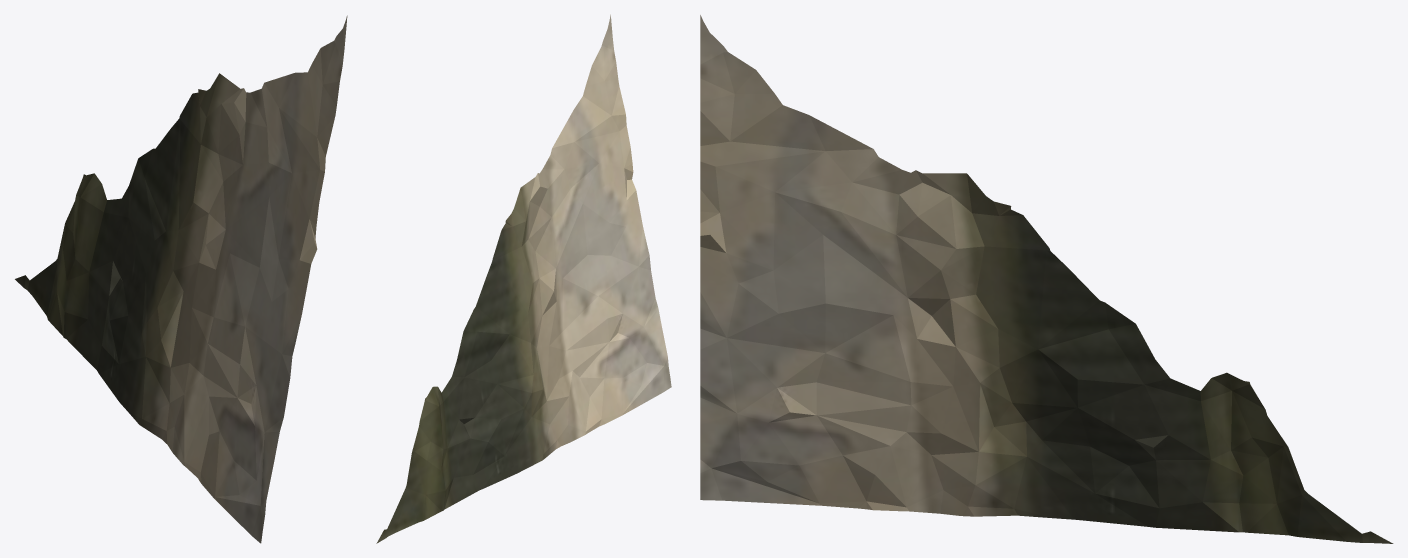
3 views of the same model, side by side, from view 1: azimuth 30°, elevation 25°; view 2: azimuth 150°, elevation 25°; view 3: azimuth 270°, elevation 25° (orthographic). The views are drawn at different scales.
Bounding box in the file's own units: 0.213 × 1.2 × 1.42.
1 material, 1 textured.
